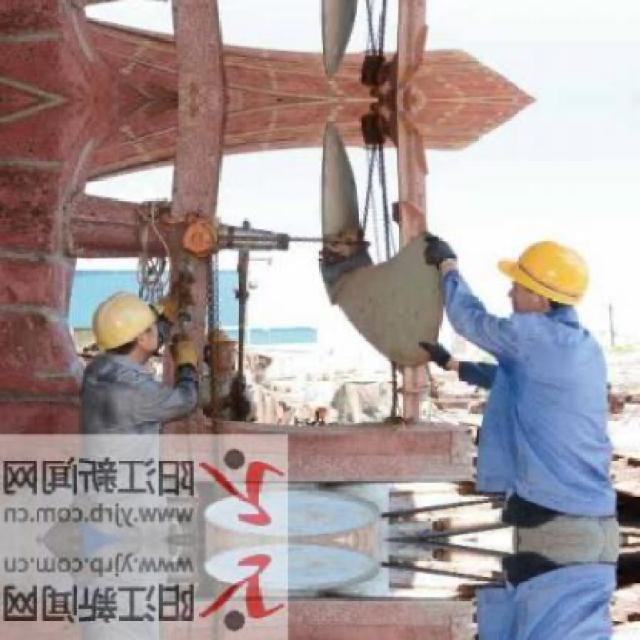helmet: (500, 229, 592, 322), (90, 288, 158, 363), (203, 326, 243, 371)
